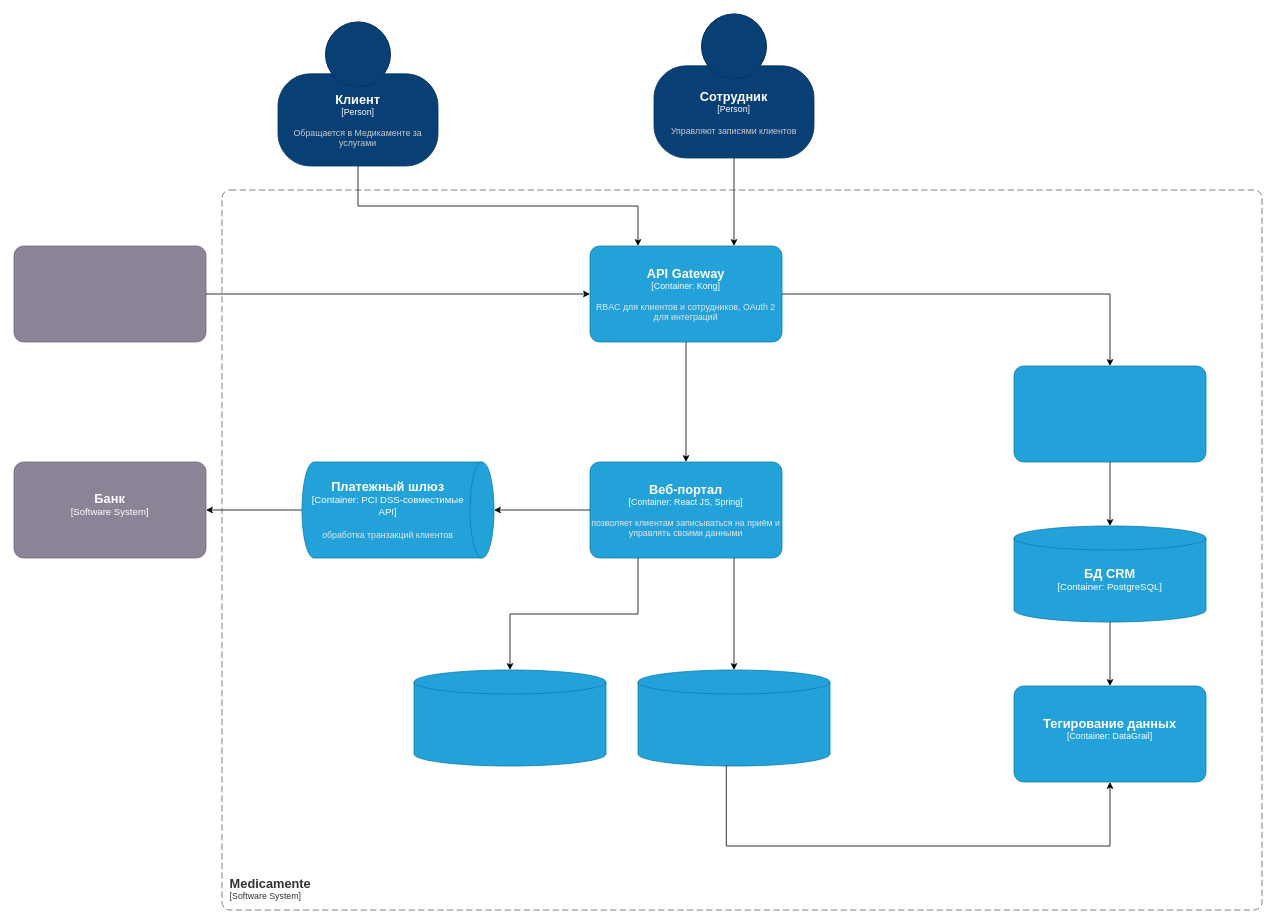
The diagram is 1276 pixels wide and 924 high, and some of its shapes have lost their labels. The shapes that lost their labels are listed below. From the top down, each one's box as (x1, y1, x2, y2) in pixels, then its label:
(13, 245, 206, 342): Лаборатория [Software System] Обработка анализов
(1013, 365, 1206, 462): CRM [Container: React JS, Spring] централизованное управление записями пациентов
(413, 669, 606, 766): Файловое хранилище [Container: S3 подобное хранилище] Сканы, снимки и т. д.
(637, 669, 830, 766): БД Веб-портала [Container: PostgreSQL]
